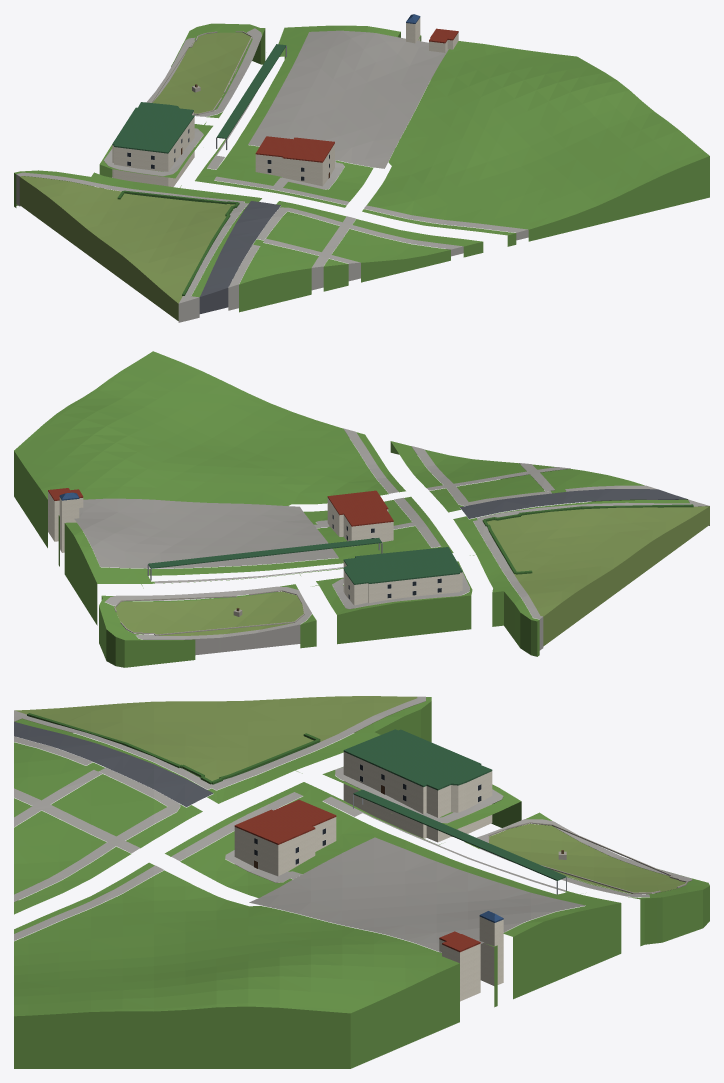
File: burnham-park-north.ea7e204a.glb
3 views of the same model, one above another, from view 1: azimuth 30°, elevation 25°; view 2: azimuth 150°, elevation 25°; view 3: azimuth 270°, elevation 25° (orthographic). The views are drawn at different scales.
Size of the model in its own units: 198 by 25.16 by 177.
Materials: 16 (4 with a texture image).
